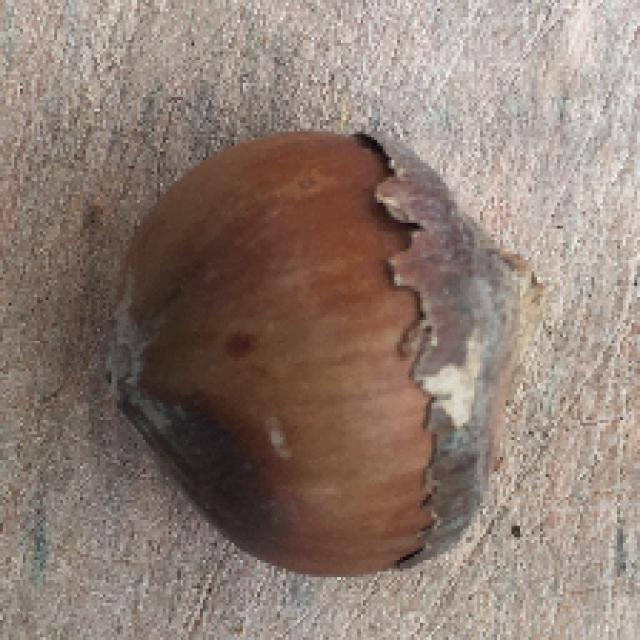damagedHazelnut: (110, 123, 526, 575)
